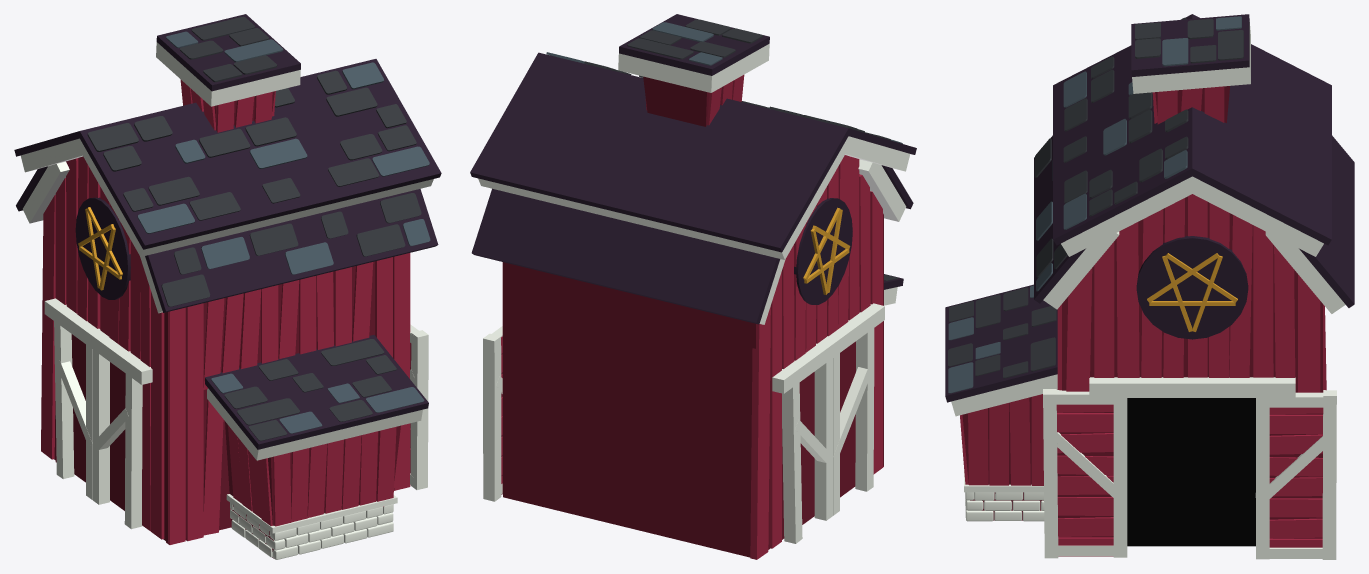
The model's file is Barn_v2.glb.
3 renders of one model, left to right at view 1: azimuth 30°, elevation 25°; view 2: azimuth 150°, elevation 25°; view 3: azimuth 270°, elevation 25°, orthographic. The views are drawn at different scales.
Parts seen in each view (by area): view 1: Barn_Pentagram_merged; view 2: Barn_Pentagram_merged; view 3: Barn_Pentagram_merged.
Part boxes in pixels (x1,y1,x2,y2): Barn_Pentagram_merged: [14, 14, 441, 559]; Barn_Pentagram_merged: [470, 14, 916, 559]; Barn_Pentagram_merged: [945, 14, 1354, 559].
Size of the model in its own units: 9.8 by 13.48 by 10.98.
